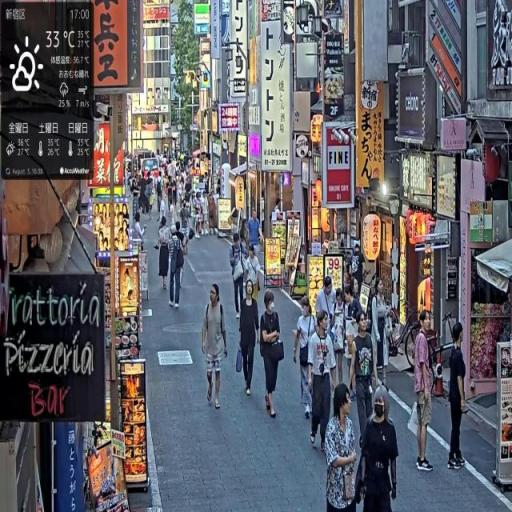person: (356, 384, 401, 512), (324, 382, 363, 512), (308, 308, 338, 458), (413, 308, 439, 473), (349, 313, 379, 450), (201, 281, 230, 410), (447, 323, 470, 474), (260, 289, 285, 419), (294, 295, 319, 417), (237, 280, 261, 400), (168, 221, 188, 310), (231, 232, 248, 315), (158, 216, 171, 294)
